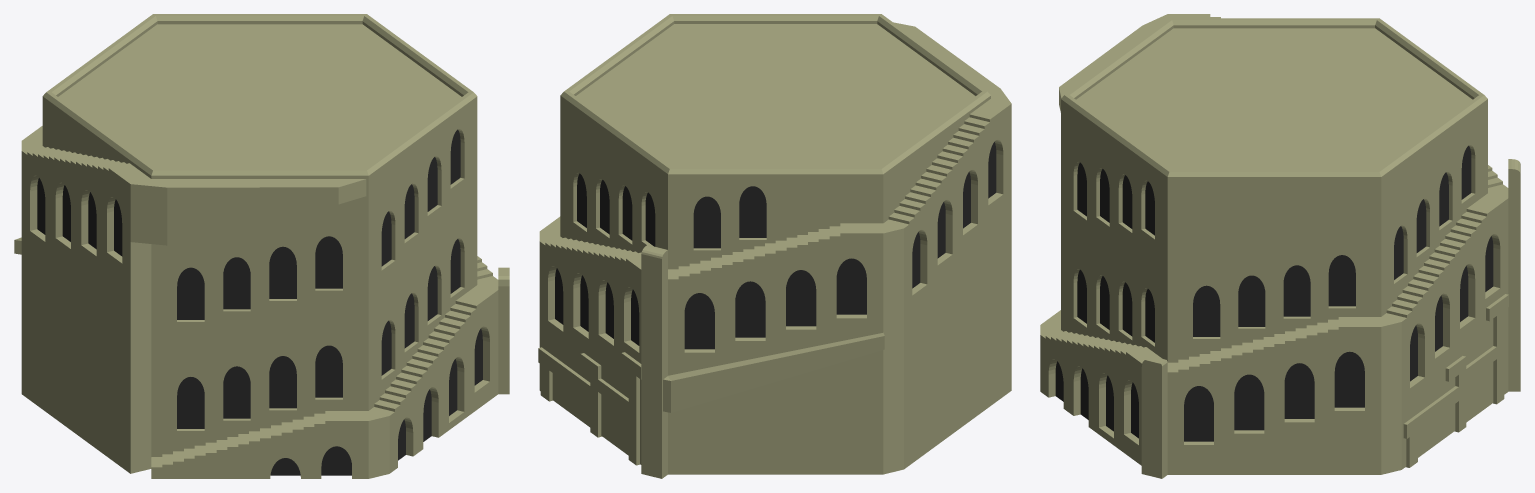
File: world_object.glb
3 views of the same model, side by side, from view 1: azimuth 30°, elevation 25°; view 2: azimuth 150°, elevation 25°; view 3: azimuth 270°, elevation 25° (orthographic).
Parts seen in each view (by area): view 1: VAVILONE.001; view 2: VAVILONE.001; view 3: VAVILONE.001.
Boxes of the visible parts, x1=… form: VAVILONE.001: x1=14, y1=14, x2=509, y2=478; VAVILONE.001: x1=538, y1=14, x2=1011, y2=478; VAVILONE.001: x1=1040, y1=14, x2=1520, y2=478.
Size of the model in its own units: 3.4 by 2.57 by 3.82.
